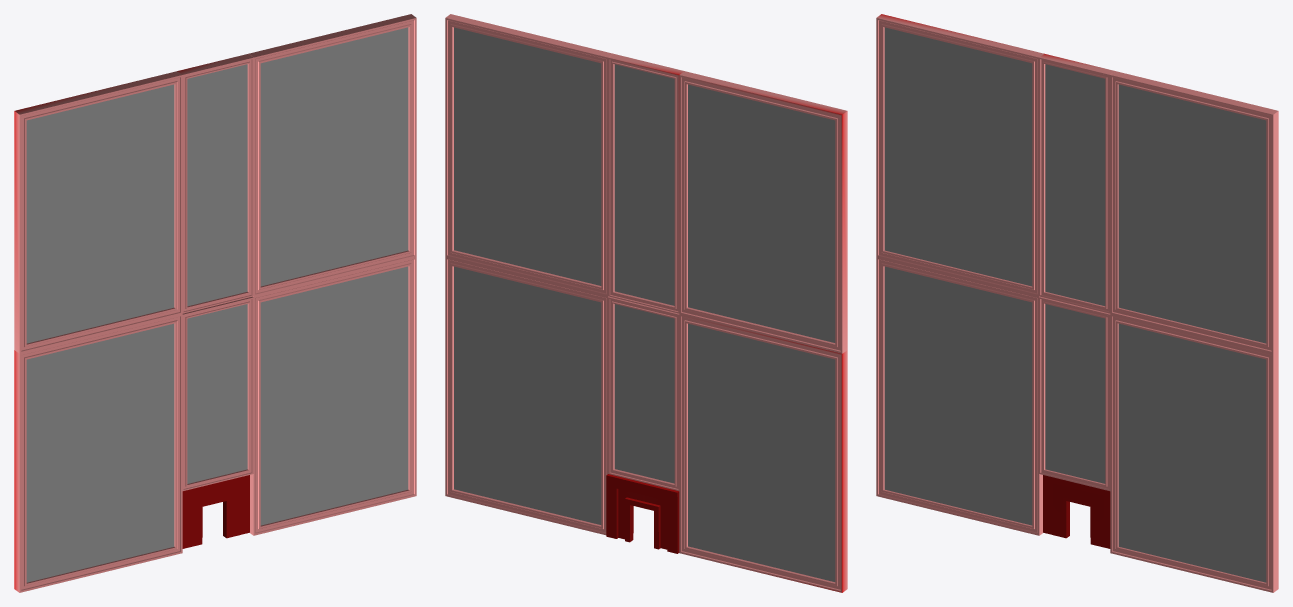
Rendered from Wall_SmallDoor_01.gltf.
3 renders of one model, left to right at view 1: azimuth 30°, elevation 25°; view 2: azimuth 150°, elevation 25°; view 3: azimuth 330°, elevation 25°, orthographic.
Visible parts, largest first — view 1: Wall_SmallDoor_01; view 2: Wall_SmallDoor_01; view 3: Wall_SmallDoor_01.
Boxes of the visible parts, box(x1,y1,x2,y2) form: Wall_SmallDoor_01: box(14, 14, 416, 592); Wall_SmallDoor_01: box(445, 14, 847, 592); Wall_SmallDoor_01: box(876, 14, 1278, 592).
Bounding box in the file's own units: 8 × 9.21 × 0.2531.
